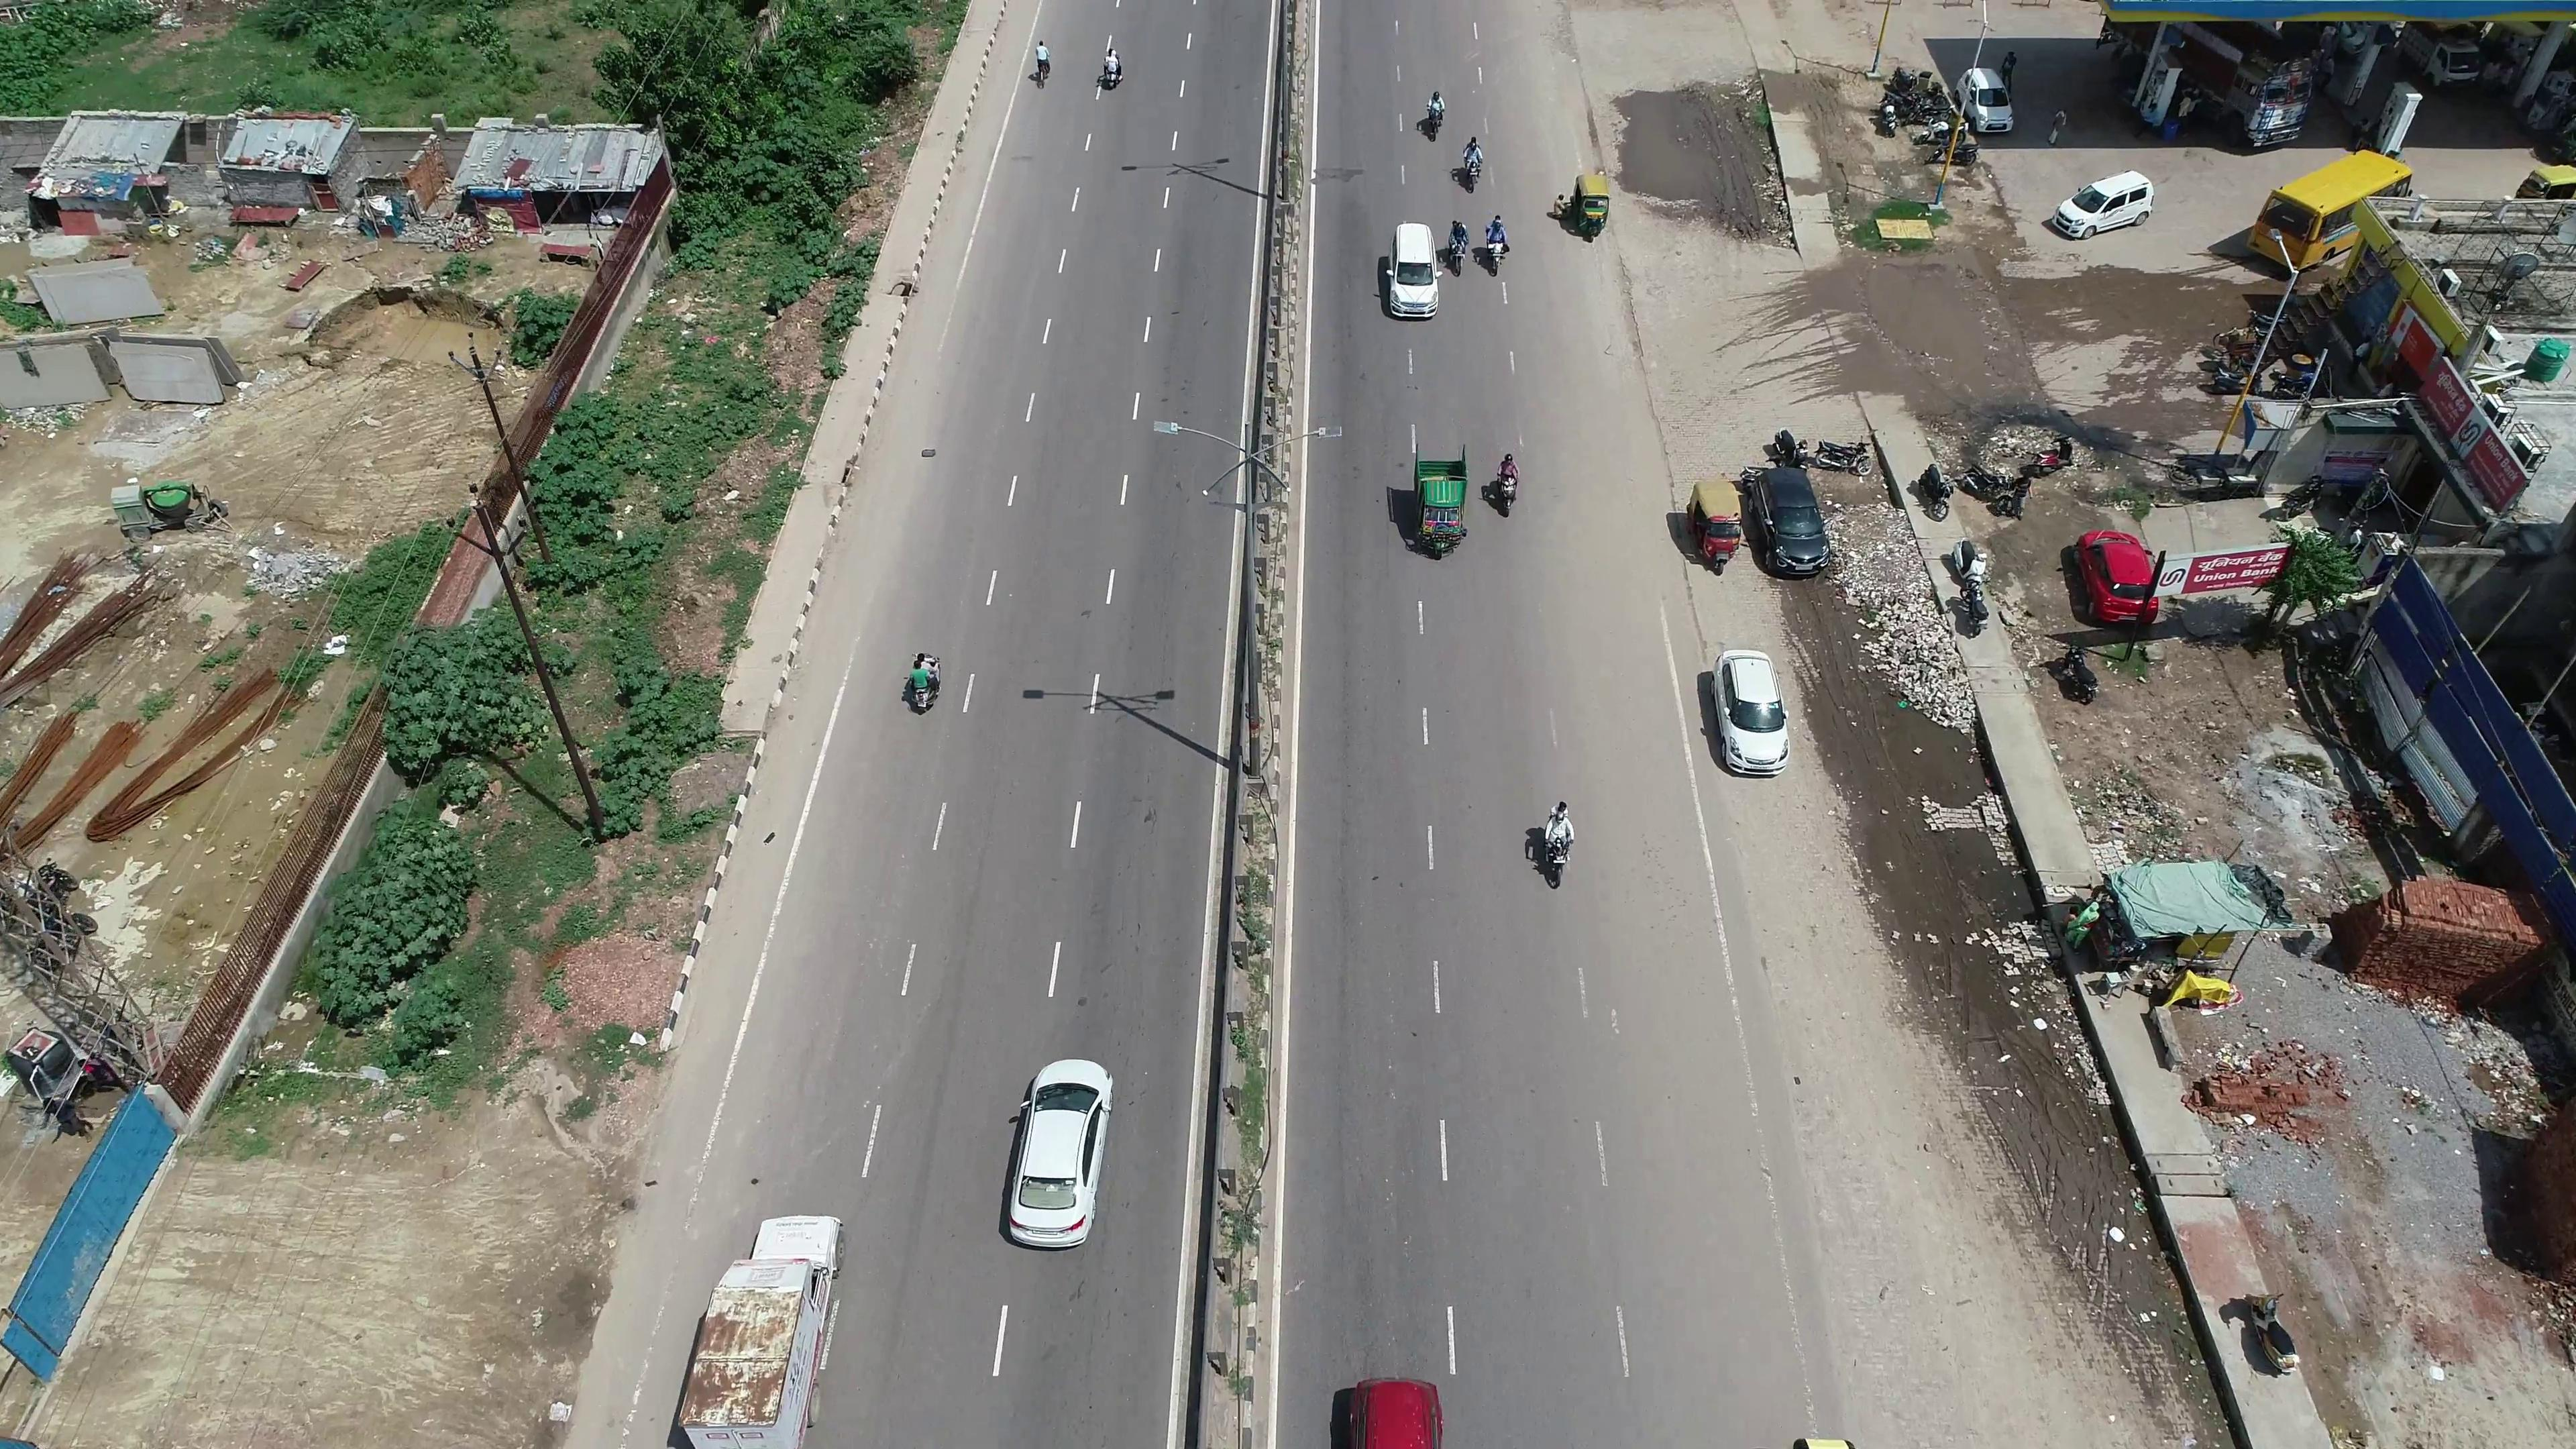Road_side_garbage: (1829, 511, 1966, 750)
